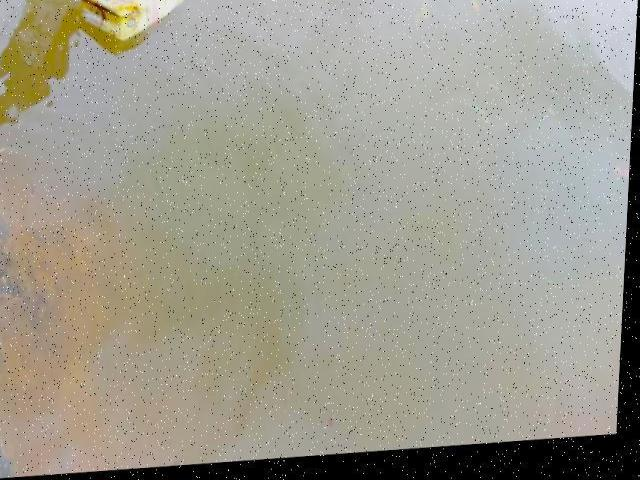Box: (68, 0, 199, 48)
